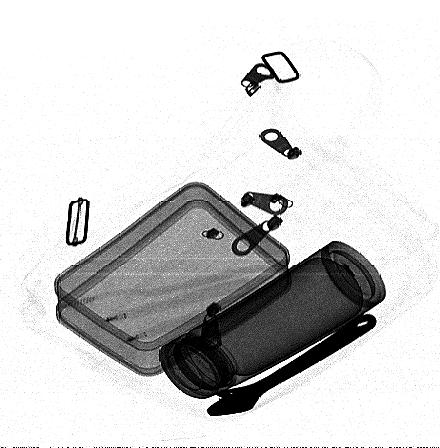Wrench: (205, 312, 378, 418)
